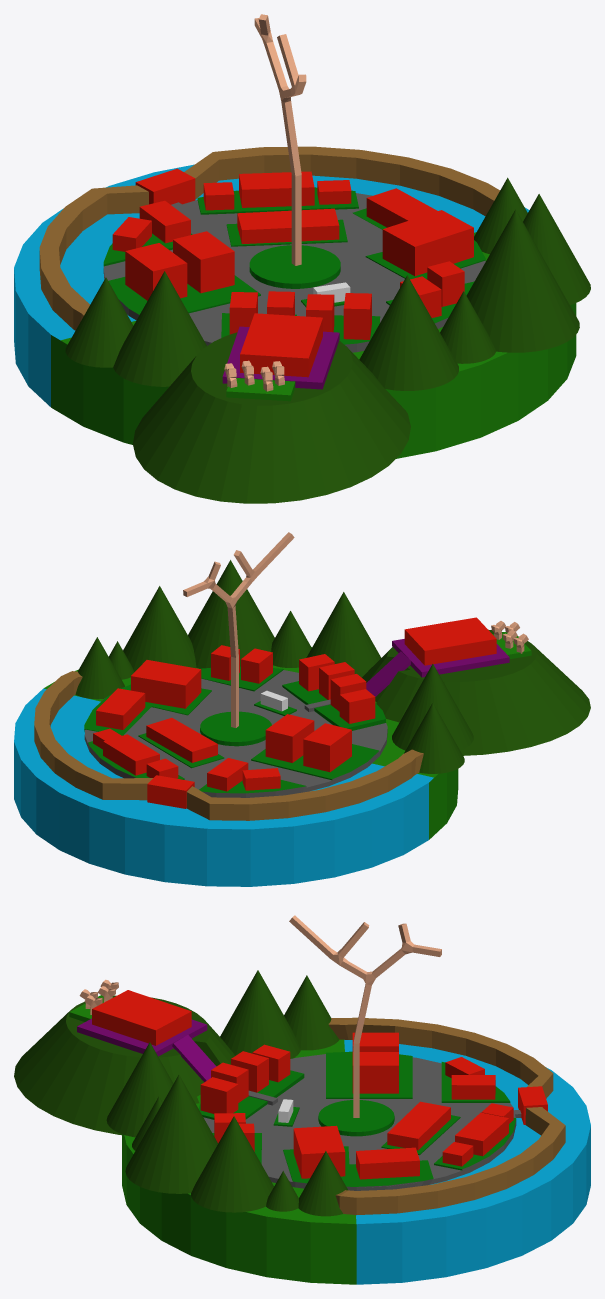
The model's file is ghibli_volumetria_canviada1.fbx.
3 views of the same model, one above another, from view 1: azimuth 30°, elevation 25°; view 2: azimuth 150°, elevation 25°; view 3: azimuth 270°, elevation 25° (orthographic). The views are drawn at different scales.
Visible parts, largest first — view 1: mountain_big, muralla, viatren, base_houses, mountain5, road, mountain3, mountain2, house10, base_house_ghost, central_tree, mountain1 (+21 smaller); view 2: muralla, mountain_big, viatren, base_houses, road, mountain5, mountain6, base_house_ghost, mountain3, mountain2, central_tree, house10 (+21 smaller); view 3: muralla, viatren, mountain_big, road, base_houses, mountain5, mountain6, mountain2, base_house_ghost, central_tree, mountain3, mountain1 (+19 smaller).
Boxes of the visible parts, x1=… form: mountain_big: x1=133, y1=332, x2=410, y2=503; muralla: x1=14, y1=164, x2=576, y2=458; viatren: x1=39, y1=146, x2=499, y2=330; base_houses: x1=103, y1=187, x2=485, y2=347; mountain5: x1=466, y1=209, x2=579, y2=352; road: x1=103, y1=193, x2=485, y2=352; mountain3: x1=359, y1=275, x2=458, y2=390; mountain2: x1=113, y1=271, x2=206, y2=386; house10: x1=382, y1=210, x2=473, y2=276; base_house_ghost: x1=240, y1=313, x2=322, y2=377; central_tree: x1=254, y1=14, x2=306, y2=265; mountain1: x1=65, y1=277, x2=133, y2=367; muralla: x1=14, y1=647, x2=458, y2=886; mountain_big: x1=362, y1=629, x2=590, y2=755; viatren: x1=34, y1=671, x2=423, y2=820; base_houses: x1=84, y1=666, x2=385, y2=797; road: x1=84, y1=670, x2=387, y2=797; mountain5: x1=188, y1=560, x2=274, y2=668; mountain6: x1=123, y1=586, x2=196, y2=671; base_house_ghost: x1=404, y1=617, x2=496, y2=665; mountain3: x1=306, y1=592, x2=381, y2=677; mountain2: x1=392, y1=664, x2=473, y2=750; central_tree: x1=183, y1=532, x2=294, y2=727; house10: x1=131, y1=660, x2=201, y2=708; muralla: x1=122, y1=1039, x2=590, y2=1284; viatren: x1=328, y1=1017, x2=565, y2=1215; mountain_big: x1=14, y1=995, x2=234, y2=1135; road: x1=203, y1=1054, x2=516, y2=1190; base_houses: x1=199, y1=1051, x2=516, y2=1189; mountain5: x1=125, y1=1075, x2=218, y2=1193; mountain6: x1=191, y1=1116, x2=273, y2=1212; mountain2: x1=220, y1=970, x2=300, y2=1058; base_house_ghost: x1=92, y1=990, x2=191, y2=1045; central_tree: x1=289, y1=915, x2=441, y2=1117; mountain3: x1=106, y1=1042, x2=173, y2=1137; mountain1: x1=284, y1=975, x2=339, y2=1050.
Size of the model in its own units: 41.52 by 23.41 by 47.01.
